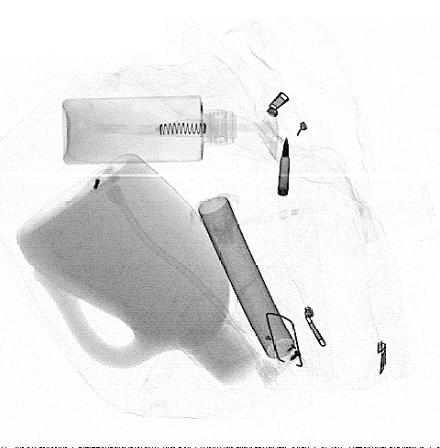Bullet: (277, 134, 291, 196)
